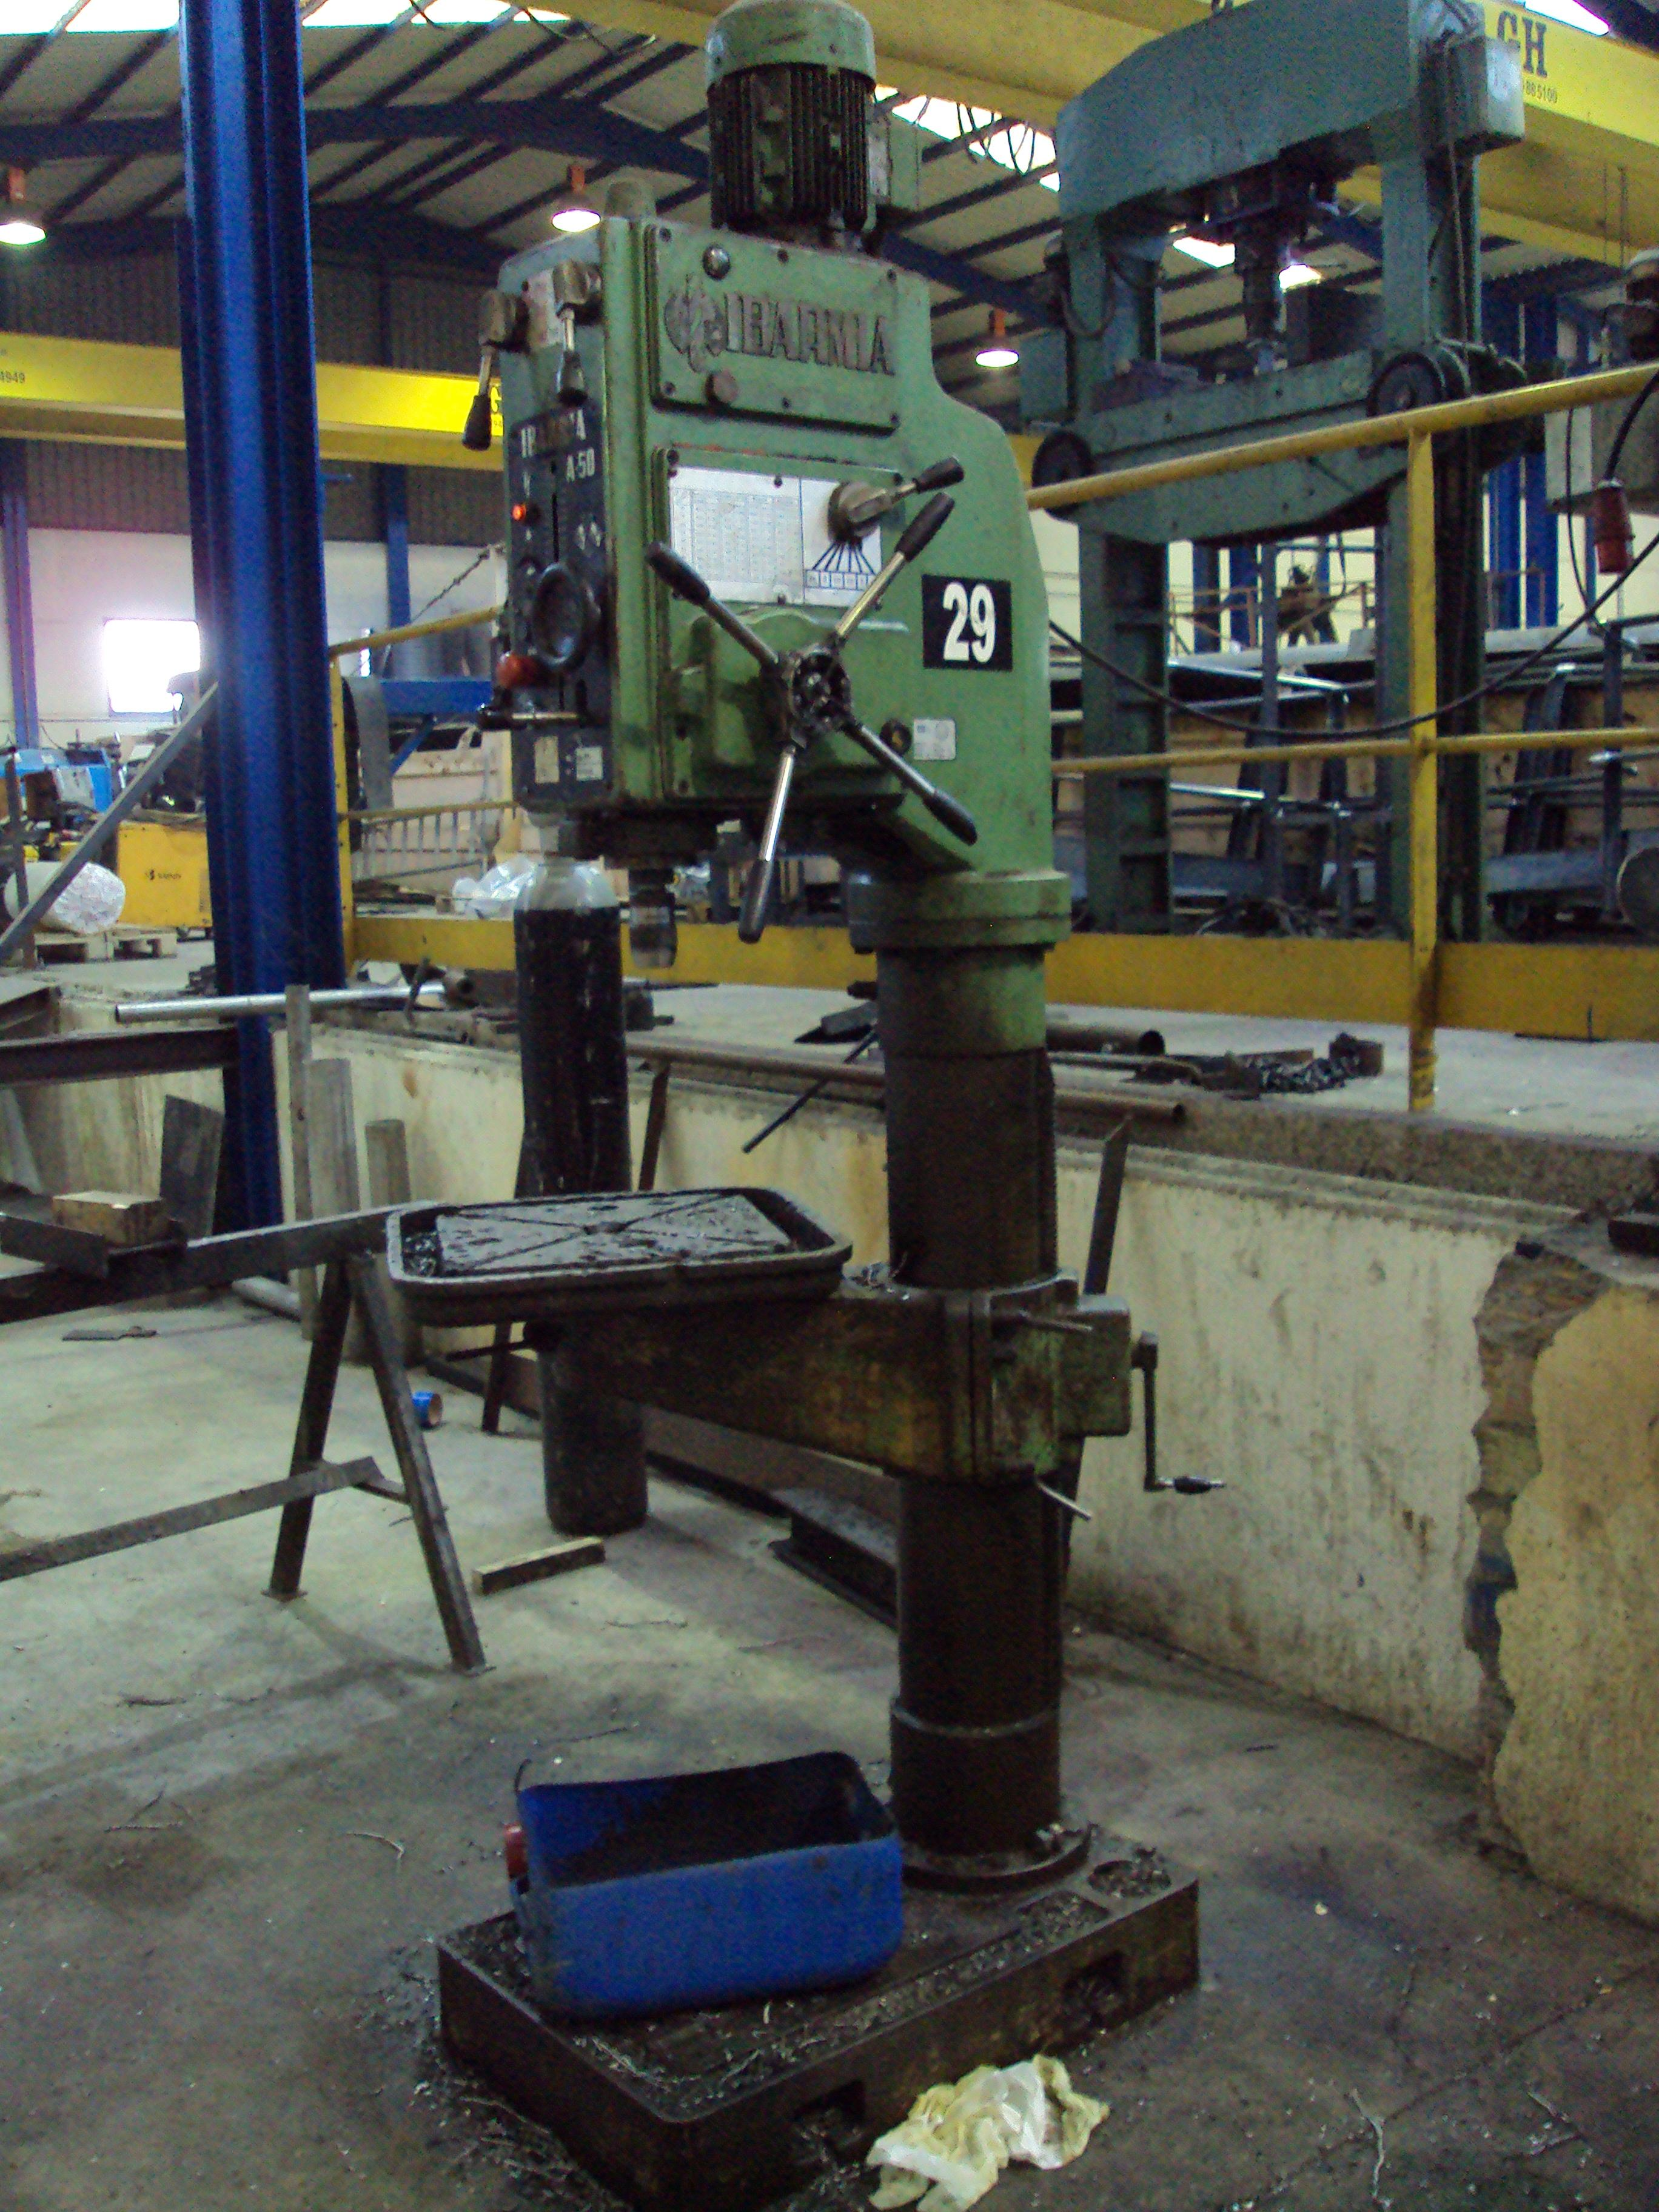falta_resguardo: (619, 796, 692, 977)
mandos_inseguros: (497, 401, 619, 812)
sin_senalizacion_riesgos: (504, 357, 551, 392)
